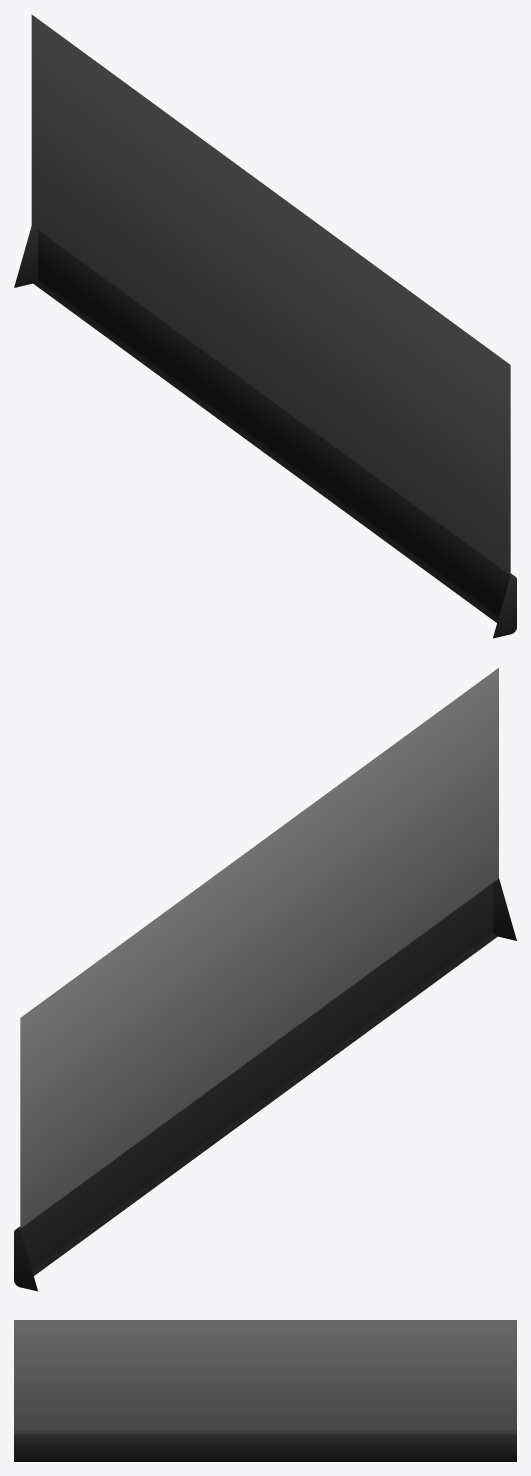
The model's file is LockerRoomHalfWall.fbx.
The picture shows the model from 3 angles, top to bottom: view 1: azimuth 30°, elevation 25°; view 2: azimuth 150°, elevation 25°; view 3: azimuth 270°, elevation 25°; orthographic projection. The views are drawn at different scales.
Parts seen in each view (by area): view 1: wall01.001; view 2: wall01.001; view 3: wall01.001.
Part boxes in pixels (x1,y1,x2,y2): wall01.001: [14, 14, 516, 638]; wall01.001: [14, 668, 516, 1291]; wall01.001: [14, 1320, 516, 1461].
Size of the model in its own units: 62.12 by 662 by 2133.
